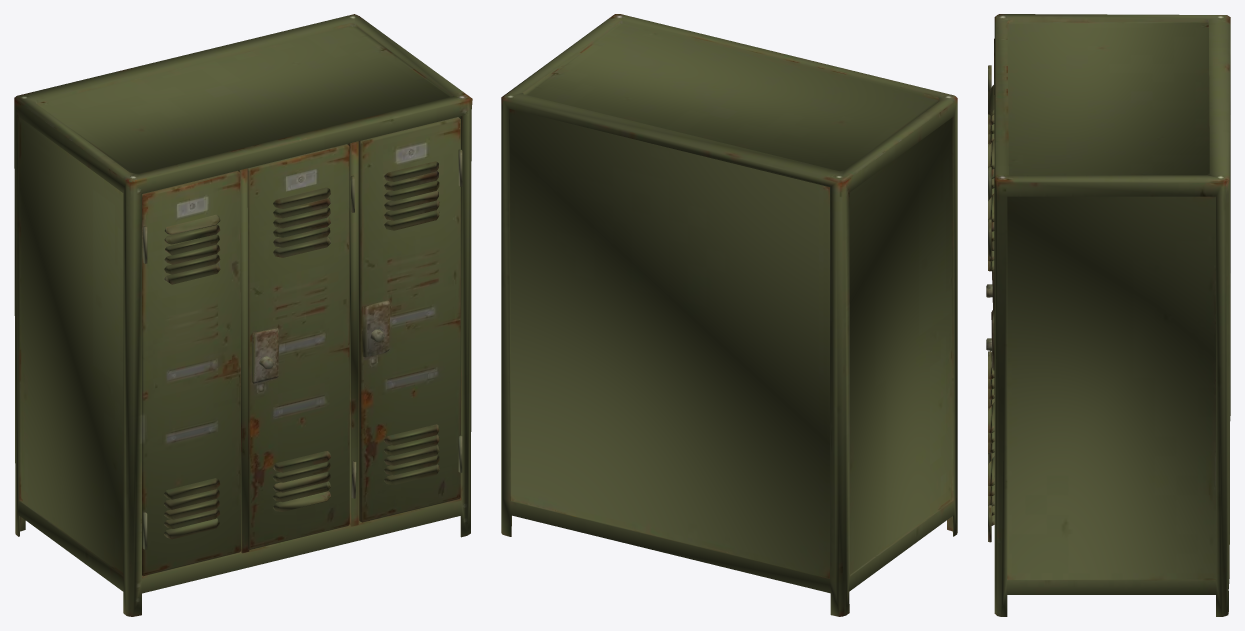
File: metal_locker.glb
The picture shows the model from 3 angles, left to right: view 1: azimuth 30°, elevation 25°; view 2: azimuth 150°, elevation 25°; view 3: azimuth 270°, elevation 25°; orthographic projection.
Size of the model in its own units: 1.49 by 1.8 by 0.9153.
Materials: 1 (1 with a texture image).
